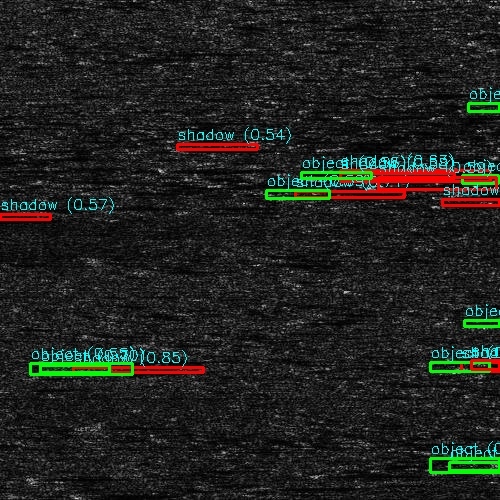rock: (444, 188, 500, 197), (39, 367, 122, 372), (471, 175, 500, 182), (484, 251, 500, 262)
shadow: (81, 367, 222, 372), (0, 215, 52, 220), (476, 188, 500, 197), (0, 201, 19, 212)
